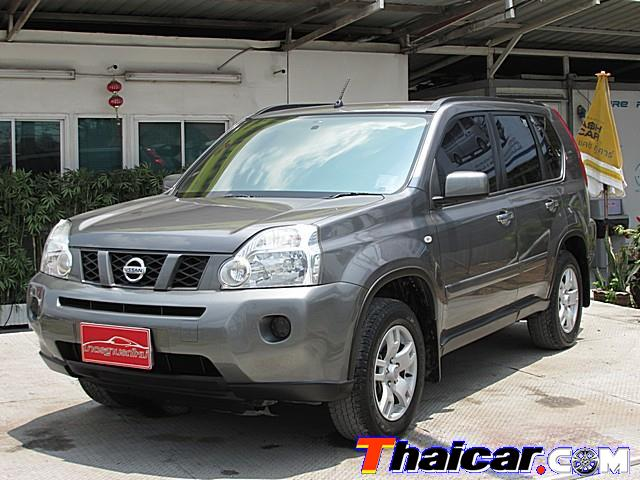pickup: (26, 95, 598, 423)
